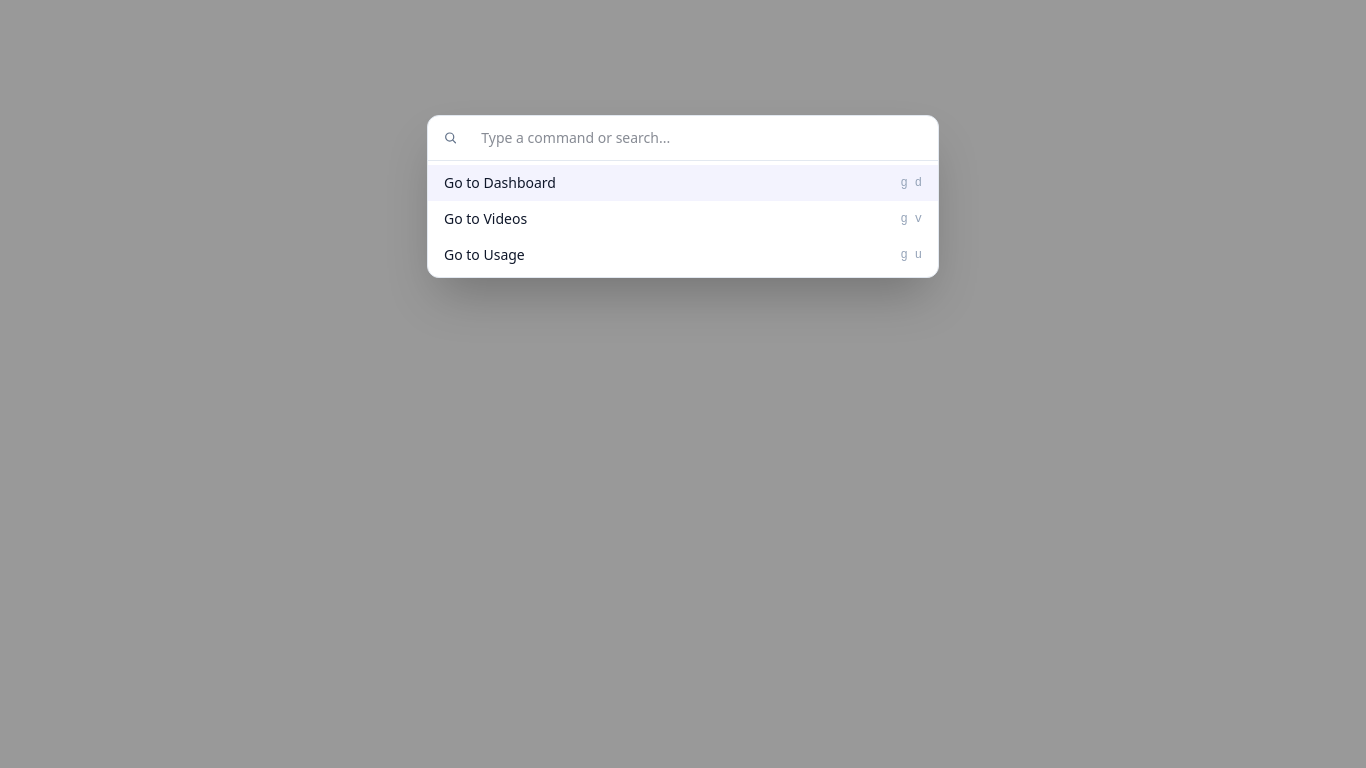
it: CommandPalette › should filter by keyword
Type "home" into the field.
click(694, 138); type("home")  # box [465,116,922,160]
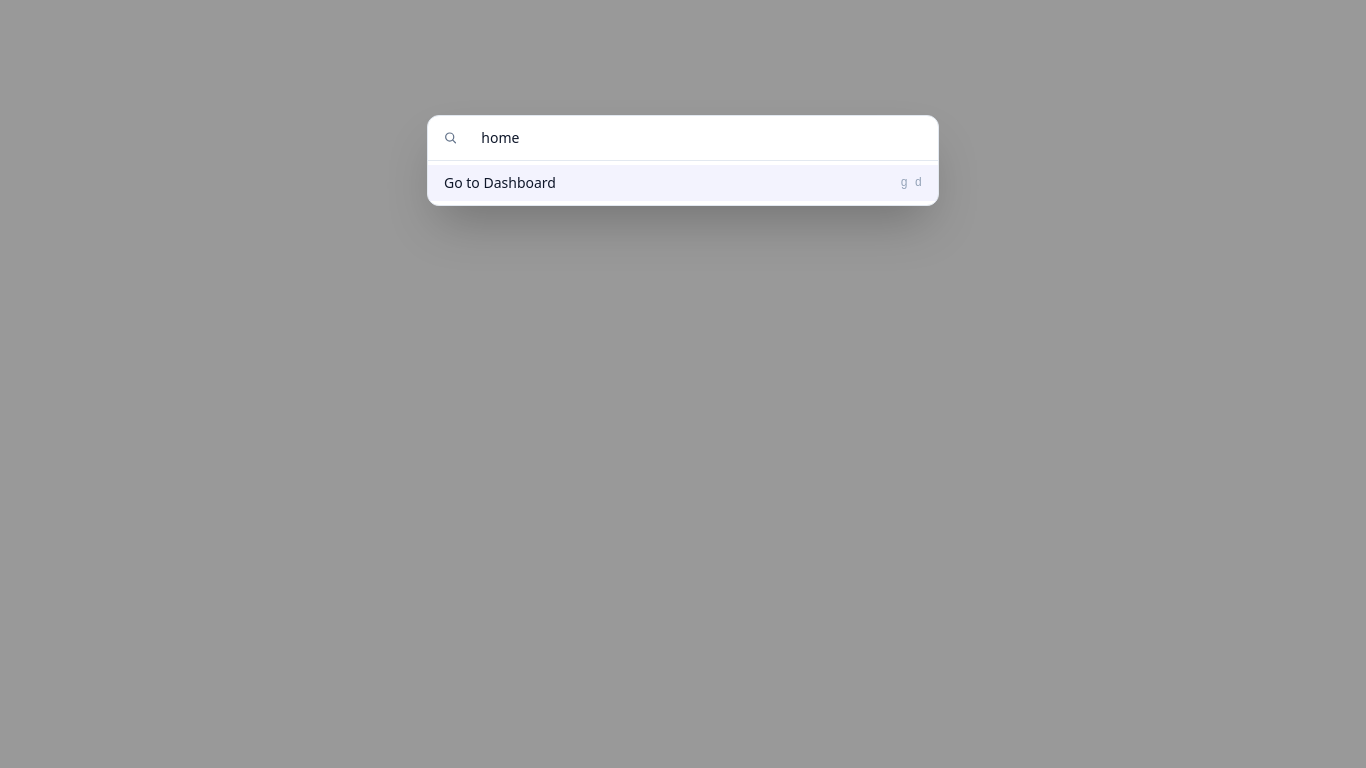
Expected: the text "Go to Dashboard" is shown, [444,173,556,193]
Result: the button "Go to Videos" is gone
